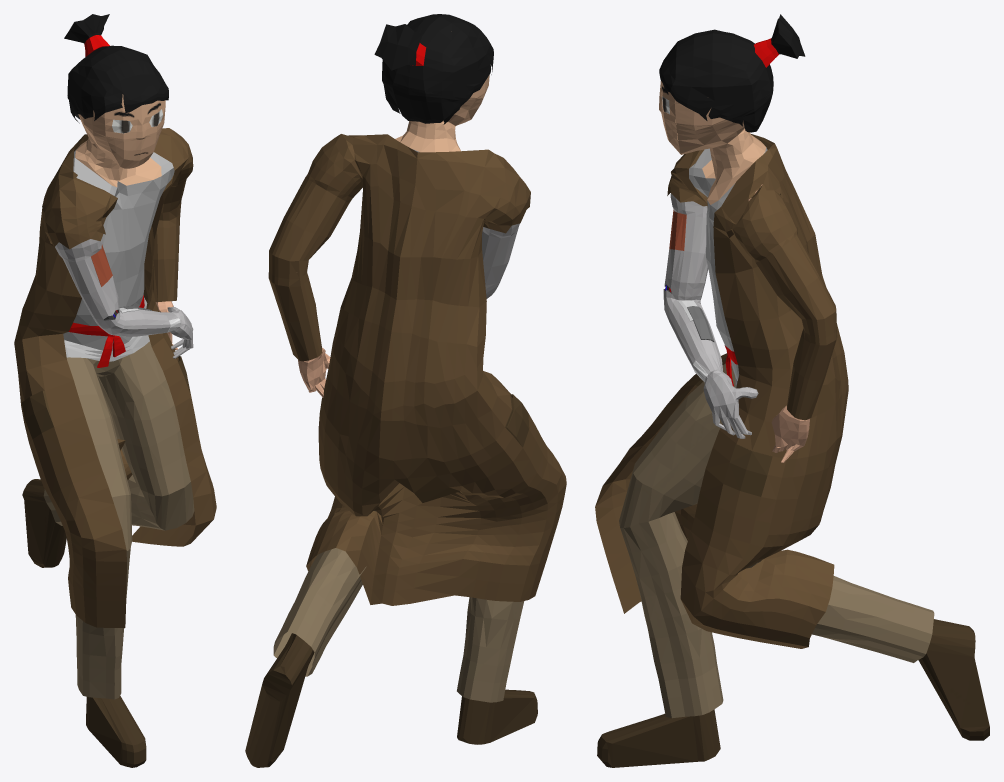
Rendered from One_RF_000005.obj.
3 renders of one model, left to right at view 1: azimuth 30°, elevation 25°; view 2: azimuth 150°, elevation 25°; view 3: azimuth 270°, elevation 25°, orthographic. The views are drawn at different scales.
Parts seen in each view (by area): view 1: Hair_Cube.004; view 2: Hair_Cube.004; view 3: Hair_Cube.004.
Part boxes in pixels (box(x1,y1,x2,y2)): Hair_Cube.004: box(14, 14, 216, 767); Hair_Cube.004: box(245, 14, 566, 767); Hair_Cube.004: box(595, 14, 989, 767).
Bounding box in the file's own units: 1.09 × 3.76 × 1.76.
